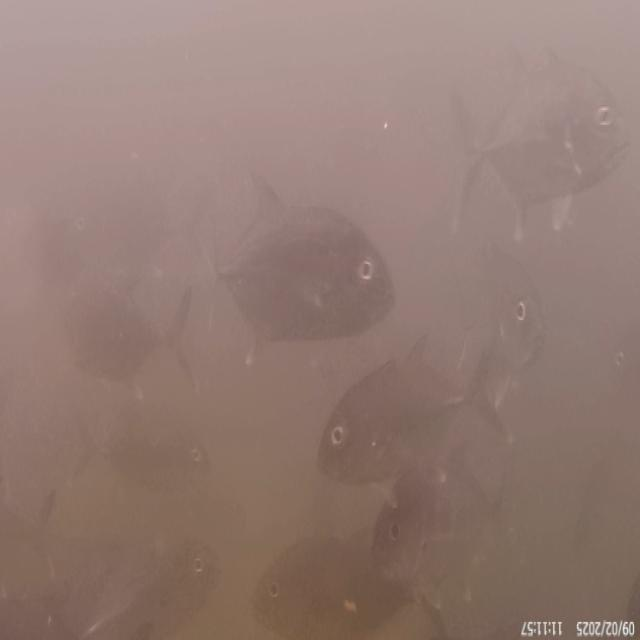ikan: (436, 41, 616, 239), (210, 174, 406, 345), (307, 366, 494, 486)
